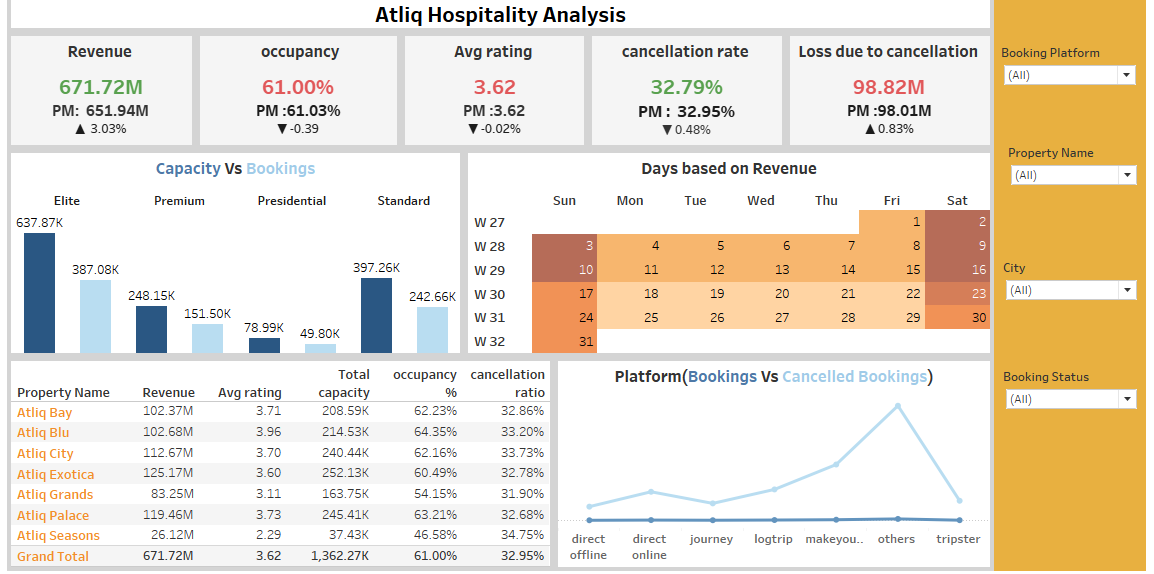

This screenshot's page, from the dashboard's own definition file:
{"tool":"tableau","page":{"name":"Atliq Hospitality Analysis 2","canvas":[1000,1000],"units":"permille","ordinal":1},"visuals":[{"type":"title","box":[6.9,13.5,854.5,62.5]},{"type":"worksheet","title":"Revenue ","mark":"Automatic","box":[6.9,76,163.5,197.8]},{"type":"worksheet","title":" occupancy","mark":"Automatic","box":[170.4,76,177.3,197.8]},{"type":"worksheet","title":"Avg rating ","mark":"Automatic","box":[347.7,76,162.6,197.8]},{"type":"worksheet","title":"cancellation rate ","mark":"Automatic","box":[510.3,76,171.3,197.8]},{"type":"worksheet","title":"Loss due to cancellation ","mark":"Automatic","box":[681.6,76,179.9,197.8]},{"type":"filter","title":"Revenue ","param":"[federated.1itx6nb17r3tpf1e4qv6j1382sir].[none:booking_platform:nk]","box":[867.5,96.3,119.5,76]},{"type":"filter","title":"Revenue ","param":"[federated.1itx6nb17r3tpf1e4qv6j1382sir].[none:property_name:nk]","box":[873.6,265.2,114.3,74.3]},{"type":"worksheet","title":"Capacity Vs bookings","mark":"Automatic","cols":["room_class"],"box":[6.9,273.8,395.7,351.2]},{"type":"worksheet","title":"Days based on Revenue","mark":"Square","rows":["Current month (copy)_721138953598496806"],"cols":["date"],"box":[402.6,273.8,458.8,351.2]},{"type":"filter","title":"Revenue ","param":"[federated.1itx6nb17r3tpf1e4qv6j1382sir].[none:city:nk]","box":[869.3,459.5,118.6,74.3]},{"type":"worksheet","title":"sheet 21","mark":"Automatic","rows":["property_name"],"box":[6.9,625,473.6,361.5]},{"type":"worksheet","title":"Platform(Bookings Vs cancelled Bookings)","mark":"Line","rows":["Current month (copy)_721138953585451034","Current month (copy)_721138953558741001"],"cols":["booking_platform"],"box":[480.5,625,380.9,361.5]},{"type":"filter","title":"Revenue ","param":"[federated.1itx6nb17r3tpf1e4qv6j1382sir].[none:booking_status:nk]","box":[869.3,643.6,118.6,86.2]}]}

Visuals, with their boxes on the dashboard's canvas, which has no fixed pixel size, in thousandths of its width and height (x1, y1, x2, y2). These are canvas units, not pixel positions in the 1154x574 screenshot, which may show the page scaled, cropped or inside an application window:
title: [7,14,861,76]
"Revenue " worksheet: [7,76,170,274]
" occupancy" worksheet: [170,76,348,274]
"Avg rating " worksheet: [348,76,510,274]
"cancellation rate " worksheet: [510,76,682,274]
"Loss due to cancellation " worksheet: [682,76,862,274]
"Revenue " filter: [868,96,987,172]
"Revenue " filter: [874,265,988,340]
"Capacity Vs bookings" worksheet: [7,274,403,625]
"Days based on Revenue" worksheet (Square marks): [403,274,861,625]
"Revenue " filter: [869,460,988,534]
"sheet 21" worksheet: [7,625,480,986]
"Platform(Bookings Vs cancelled Bookings)" worksheet (Line marks): [480,625,861,986]
"Revenue " filter: [869,644,988,730]
